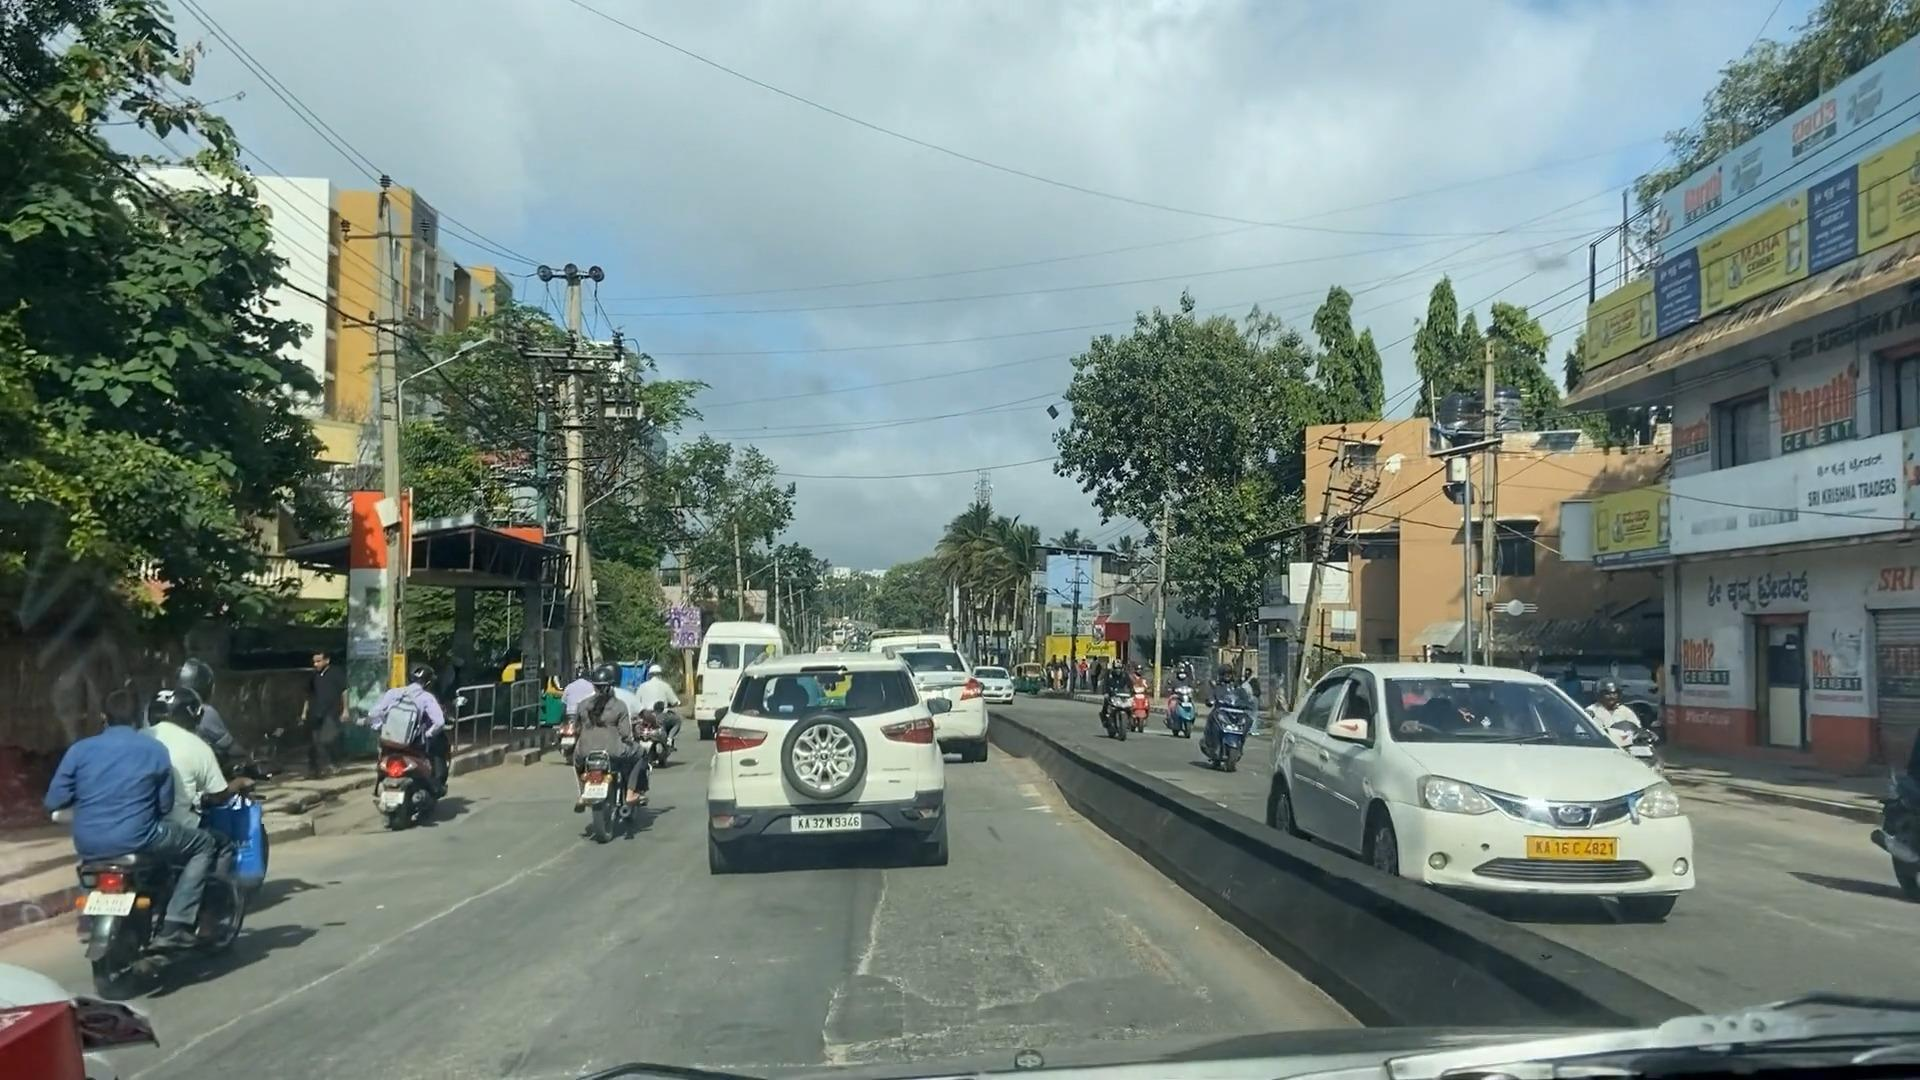LMV: (54, 696, 255, 972), (707, 665, 943, 858), (570, 657, 645, 827), (371, 669, 450, 811)
RoadDamages: (170, 843, 589, 1067), (820, 868, 931, 1080)
UnsurfacedRoad: (944, 906, 1196, 1062)
